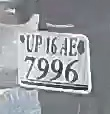1: (45, 34, 51, 54)
6: (65, 59, 80, 83), (50, 36, 59, 56)
7: (23, 55, 36, 80)
9: (49, 58, 64, 81), (36, 57, 49, 80)
A: (59, 38, 68, 55)
E: (68, 37, 78, 57)
P: (35, 35, 42, 52)
U: (25, 34, 35, 52)
